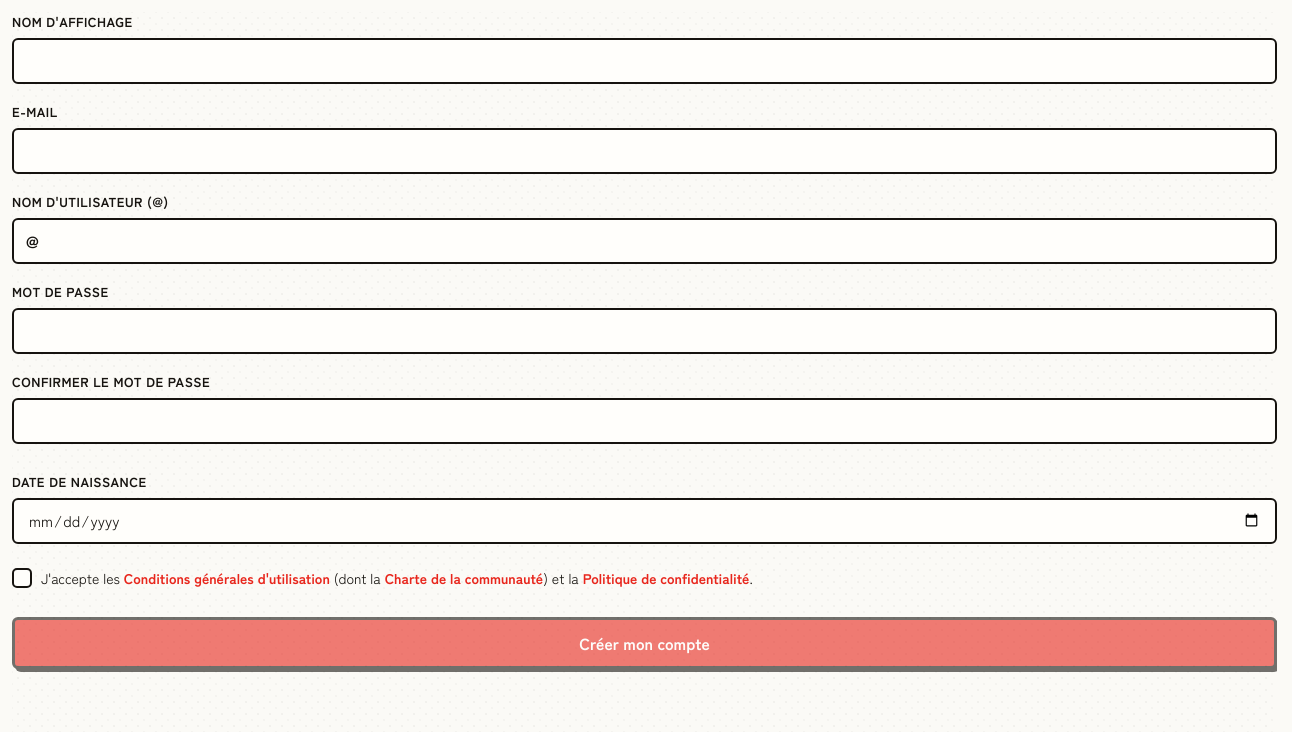
Test: SignupForm › shows "E-mail invalide" for a malformed email
Type "Yuki" into the field labelled "Nom d'affichage". click: (644, 61)
box: [12, 38, 1277, 84]
Type "not-an-email" into the field labelled "E-mail". click: (644, 151)
box: [12, 128, 1277, 174]
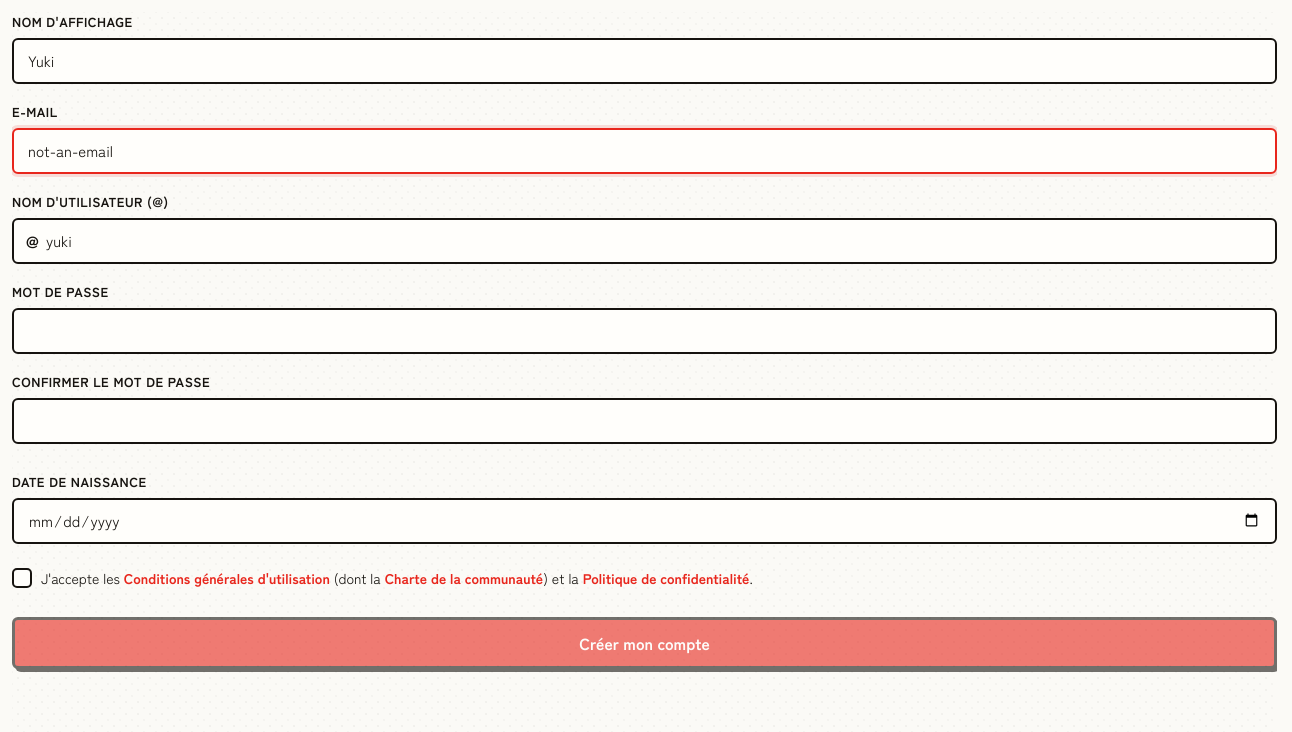
Type "password123" into the password field labelled "Mot de passe". click: (644, 331)
box: [12, 308, 1277, 354]
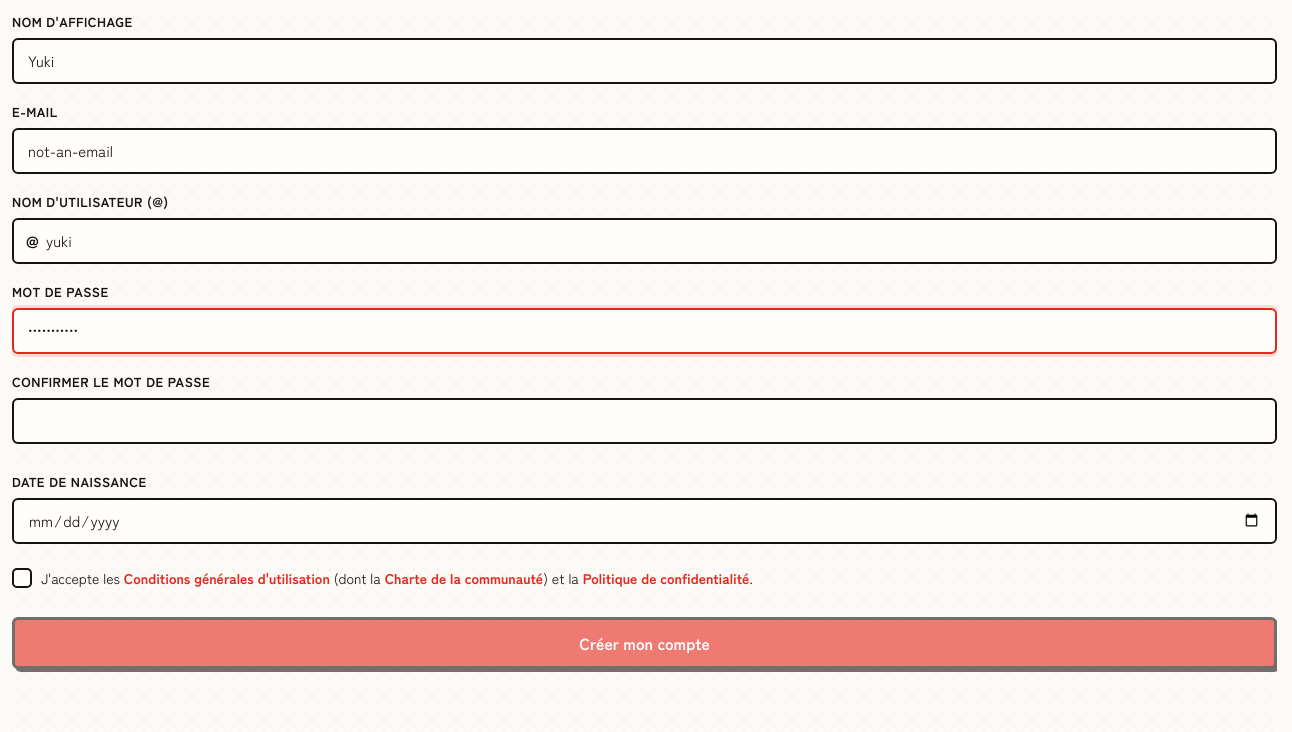
Type "password123" into the password field labelled "Confirmer le mot de passe". click: (644, 421)
box: [12, 398, 1277, 444]
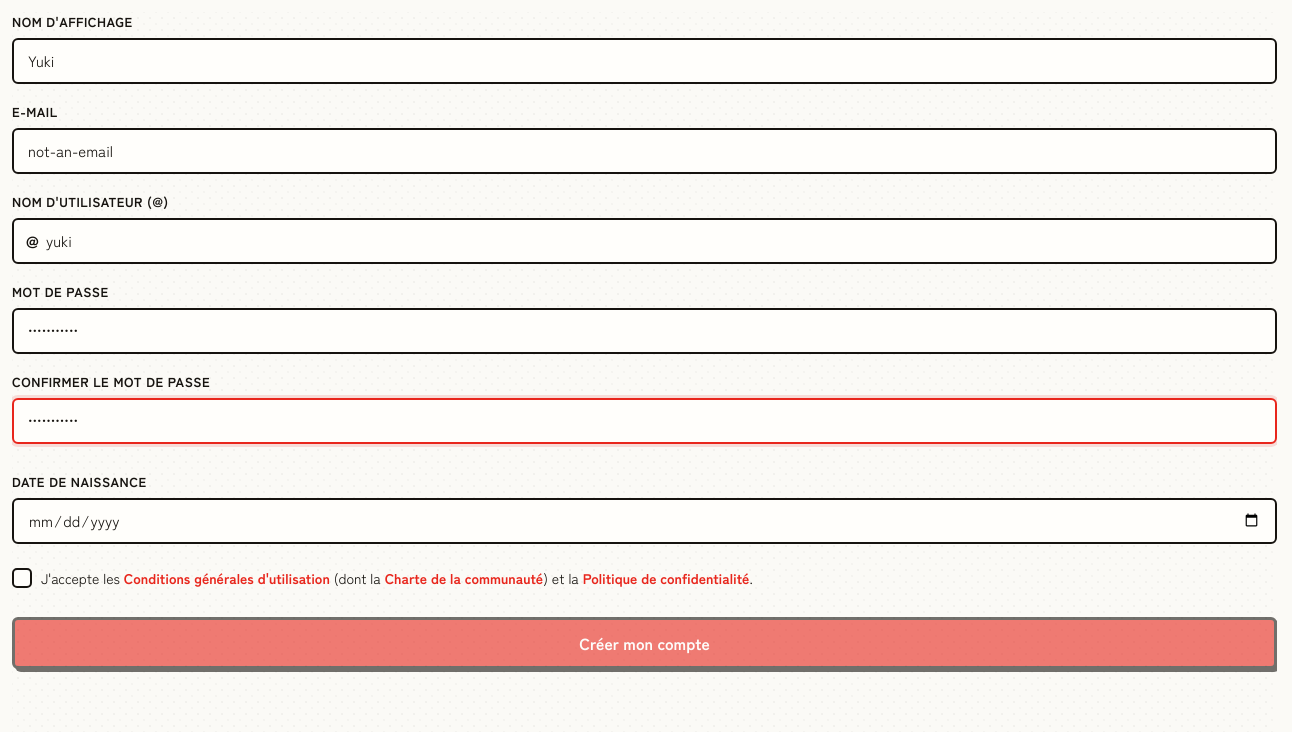
Type "1990-01-01" into the date field labelled "Date de naissance". click: (644, 521)
box: [12, 498, 1277, 544]
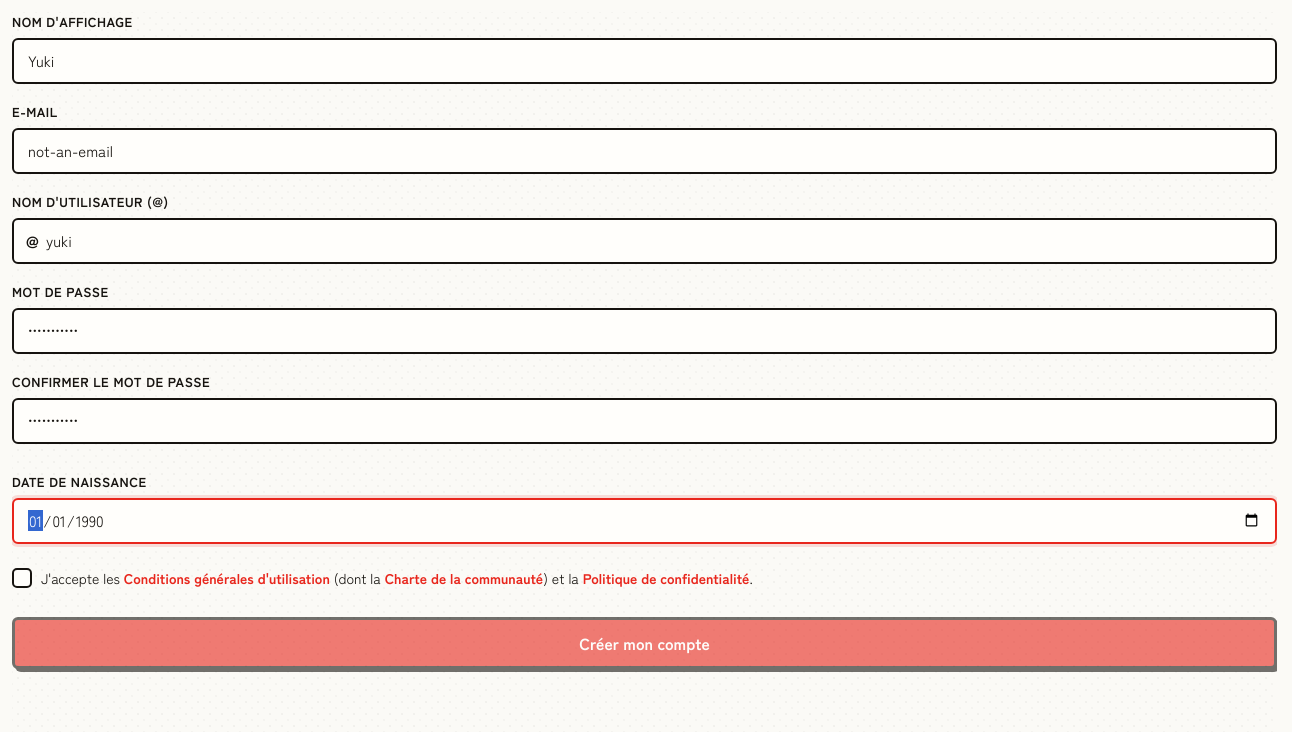
Click the checkbox labelled "J'accepte les". click: (382, 578)
box: [12, 568, 753, 589]
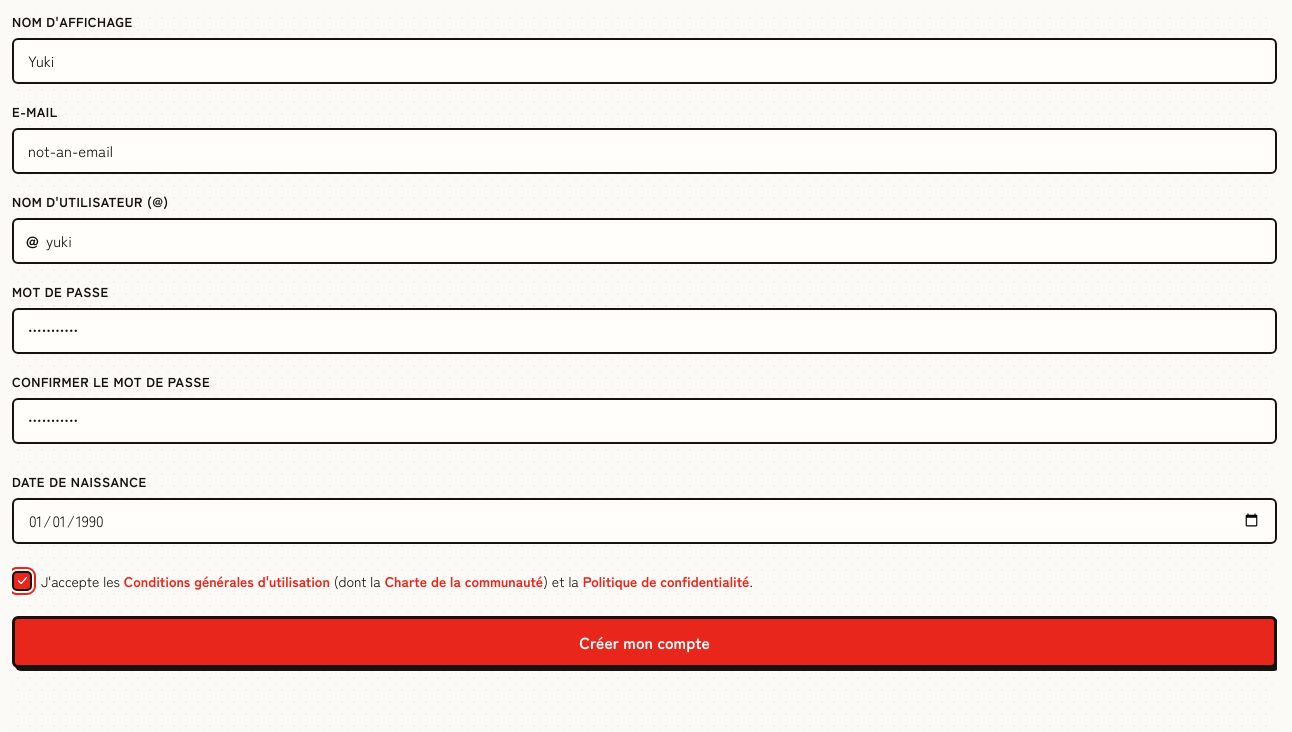
Click the button "Créer mon compte". click: (644, 642)
box: [12, 616, 1277, 668]
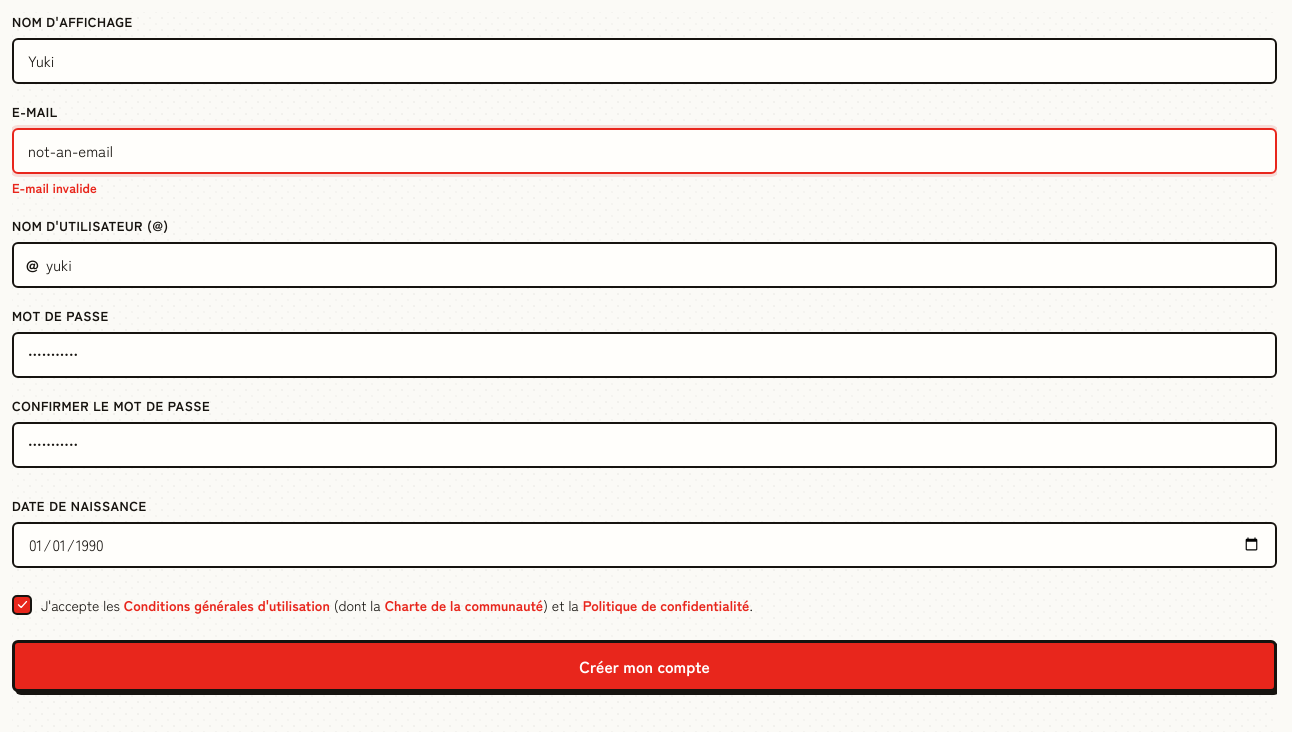
Check: the text "E-mail invalide" is shown, box [12, 178, 97, 197]
